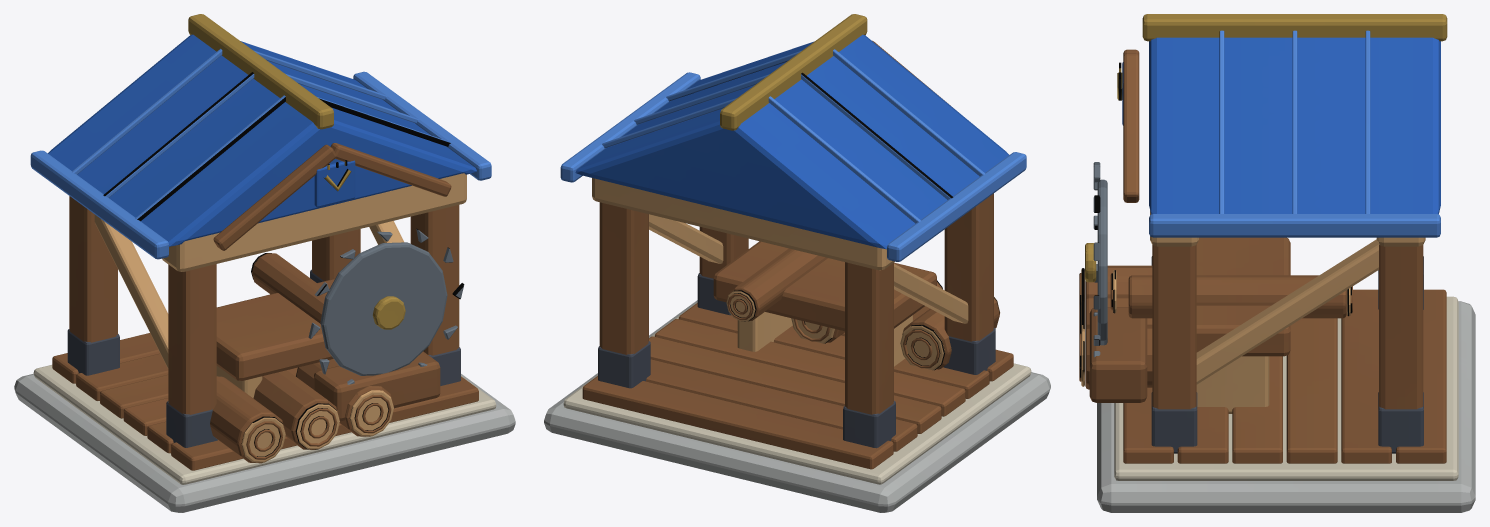
File: lumberyard_low.glb
3 views of the same model, side by side, from view 1: azimuth 30°, elevation 25°; view 2: azimuth 150°, elevation 25°; view 3: azimuth 270°, elevation 25° (orthographic). The views are drawn at different scales.
Parts seen in each view (by area): view 1: lumberyard_low_surface; view 2: lumberyard_low_surface; view 3: lumberyard_low_surface.
Boxes of the visible parts, box(x1,y1,x2,y2) form: lumberyard_low_surface: box(14, 14, 515, 512); lumberyard_low_surface: box(544, 14, 1050, 512); lumberyard_low_surface: box(1079, 14, 1475, 512).
Size of the model in its own units: 1.6 by 1.56 by 1.38.
Materials: 1 (1 with a texture image).
